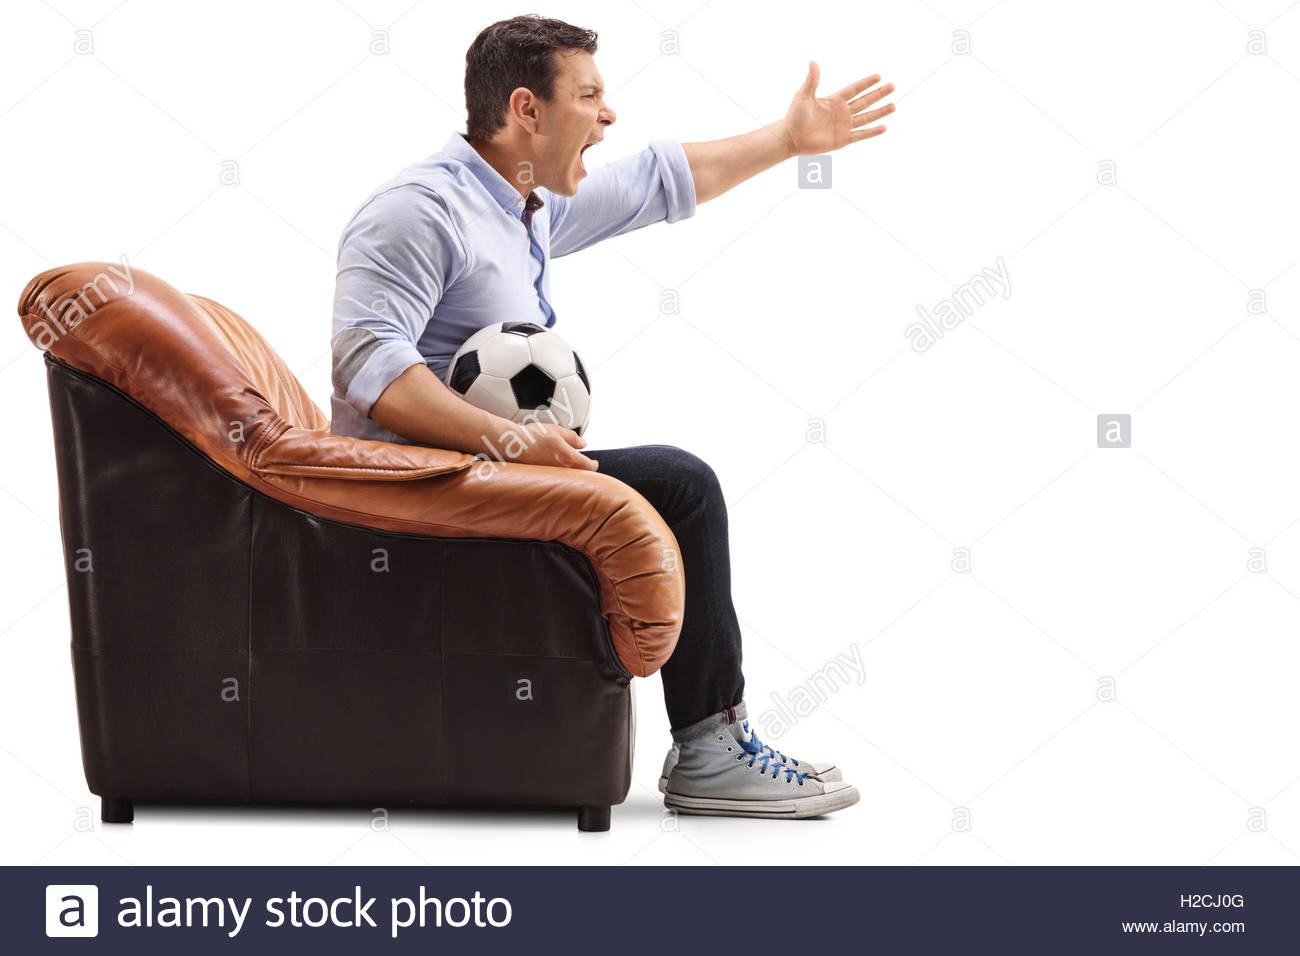chairs: (15, 257, 709, 839)
